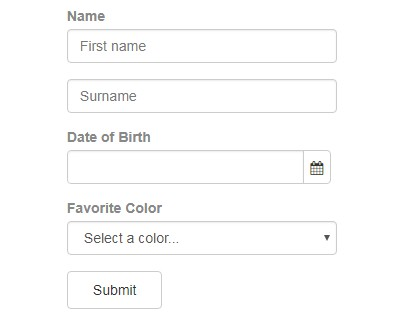_form_: (1, 1, 406, 315)
button: (66, 271, 162, 309)
field: (65, 28, 337, 65), (65, 79, 338, 115), (65, 149, 333, 185)
field_with_label: (63, 10, 338, 67), (65, 201, 340, 257), (63, 131, 334, 186)
select: (67, 220, 338, 256)
